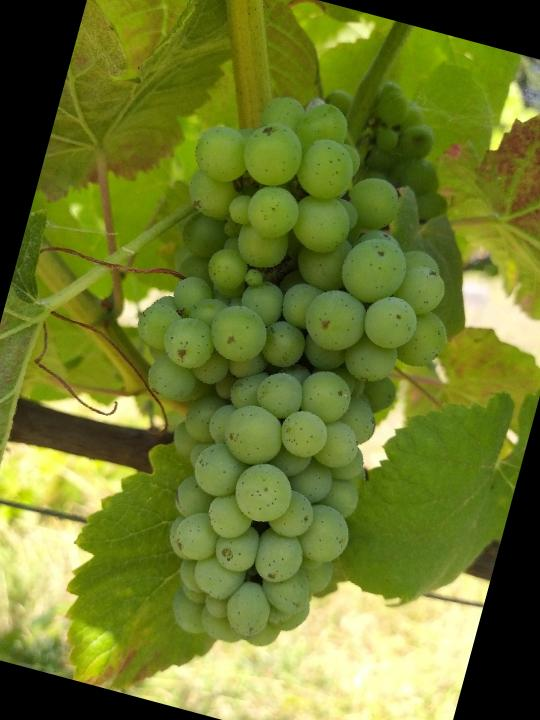grape: (61, 65, 501, 681)
